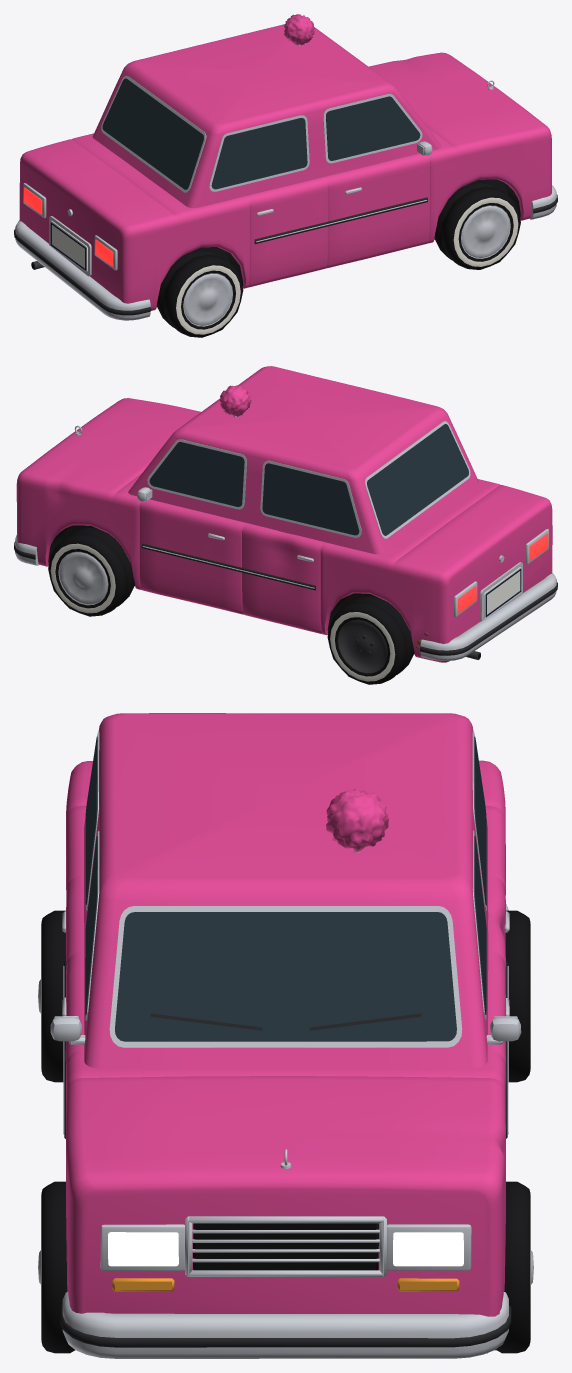
The model's file is sedan.glb.
3 renders of one model, top to bottom at view 1: azimuth 30°, elevation 25°; view 2: azimuth 150°, elevation 25°; view 3: azimuth 270°, elevation 25°, orthographic. The views are drawn at different scales.
Parts seen in each view (by area): view 1: Body, WheelRR_Tire, WheelFR_Tire, Pom, Taillights; view 2: Body, WheelFL_Tire, WheelRL_Tire, Pom, Taillights; view 3: Body, Headlights, WheelFL_Tire, WheelFR_Tire, WheelRR_Tire, WheelRL_Tire, Pom.
Part boxes in pixels (box(x1,y1,x2,y2)): Body: box(14, 24, 557, 320); WheelRR_Tire: box(157, 249, 243, 337); WheelFR_Tire: box(434, 182, 520, 269); Pom: box(284, 14, 314, 45); Taillights: box(24, 187, 113, 266); Body: box(14, 366, 557, 662); WheelFL_Tire: box(48, 528, 134, 616); WheelRL_Tire: box(327, 596, 414, 684); Pom: box(219, 385, 251, 416); Taillights: box(458, 533, 548, 613); Body: box(50, 713, 521, 1358); Headlights: box(108, 1232, 463, 1266); WheelFL_Tire: box(487, 1181, 533, 1353); WheelFR_Tire: box(38, 1181, 74, 1353); WheelRR_Tire: box(38, 910, 65, 1082); WheelRL_Tire: box(505, 910, 530, 1082); Pom: box(326, 789, 388, 851).
Bounding box in the file's own units: 4.39 × 2.08 × 2.09.
